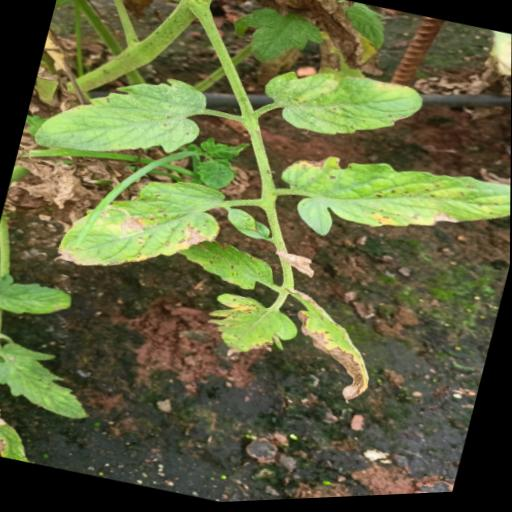Early Blight: (266, 131, 511, 285), (52, 152, 232, 299), (279, 293, 390, 414), (197, 285, 305, 374)
